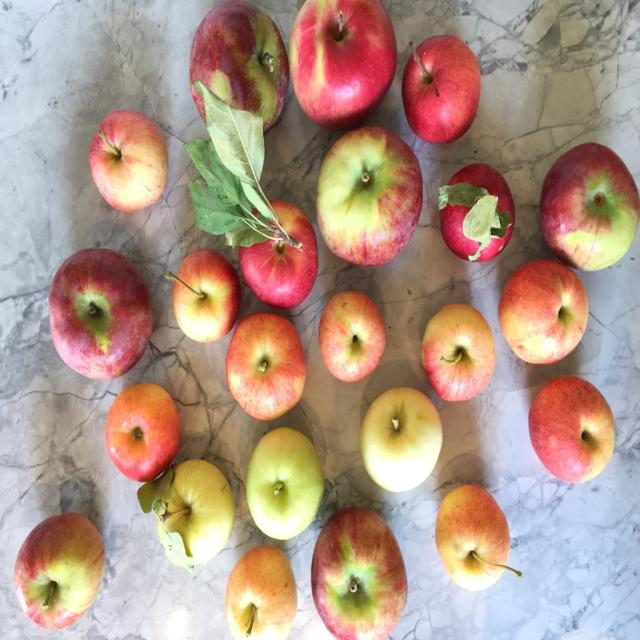Healty Apple: (13, 0, 639, 639), (317, 128, 424, 268), (288, 0, 399, 131), (48, 249, 154, 381), (186, 0, 289, 135), (310, 506, 408, 640), (538, 143, 640, 270), (12, 514, 105, 630), (496, 256, 590, 365), (526, 375, 616, 485), (435, 486, 523, 591), (244, 428, 325, 542), (223, 313, 306, 424), (358, 388, 442, 495), (238, 198, 318, 309), (86, 108, 170, 212), (402, 38, 481, 144), (436, 159, 518, 260), (157, 461, 235, 566), (101, 382, 180, 484), (422, 302, 495, 403), (164, 246, 239, 344), (222, 545, 297, 640), (319, 290, 388, 384)
